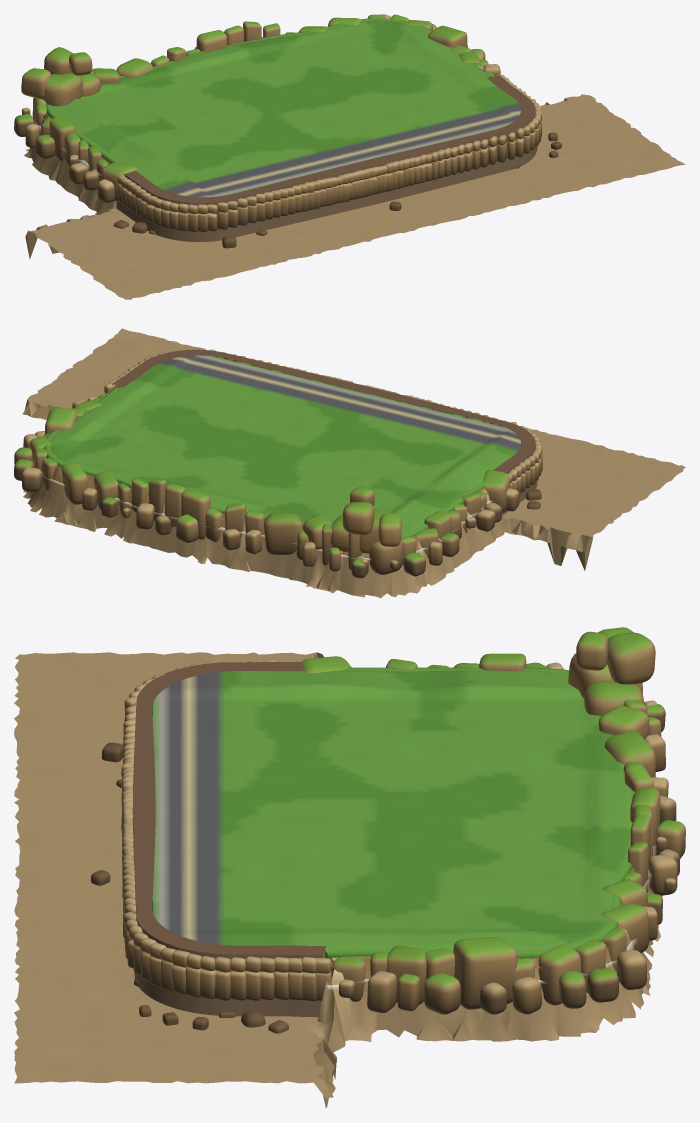
File: valora-island-vn.glb
3 renders of one model, top to bottom at view 1: azimuth 30°, elevation 25°; view 2: azimuth 150°, elevation 25°; view 3: azimuth 270°, elevation 25°, orthographic. The views are drawn at different scales.
Parts seen in each view (by area): view 1: island; view 2: island; view 3: island.
Boxes of the visible parts, box(x1,y1,x2,y2) form: island: box(14, 14, 685, 299); island: box(14, 328, 685, 598); island: box(14, 627, 685, 1107).
Size of the model in its own units: 36.05 by 6.78 by 23.74.
